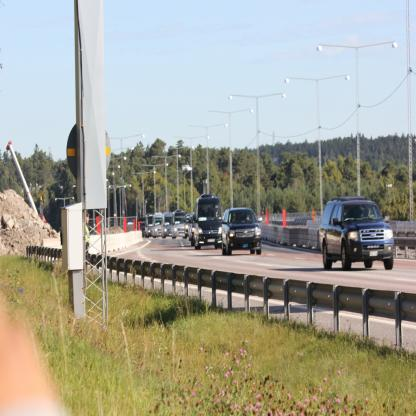Car: (320, 194, 395, 274), (223, 206, 264, 256), (190, 215, 197, 245)
